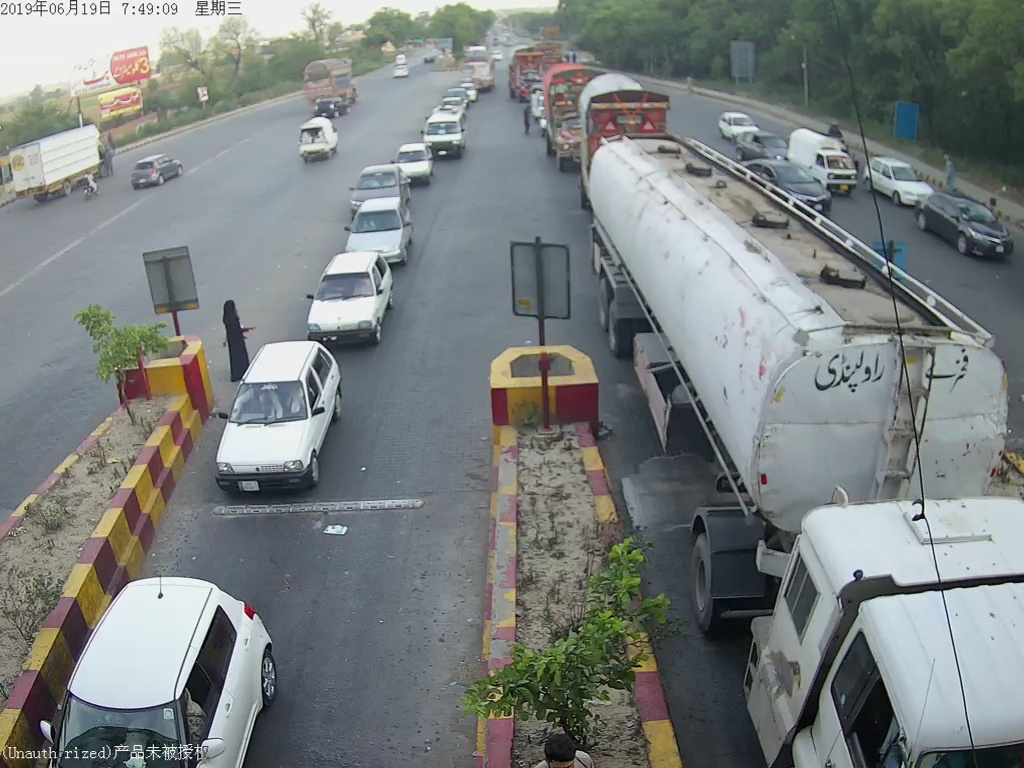Cat-1: (214, 337, 341, 489), (296, 248, 394, 344), (343, 198, 418, 268), (388, 138, 431, 182)
Cat-2: (421, 110, 468, 158)
Cat-4: (537, 65, 588, 169)
Cat-5: (591, 136, 1024, 755)
